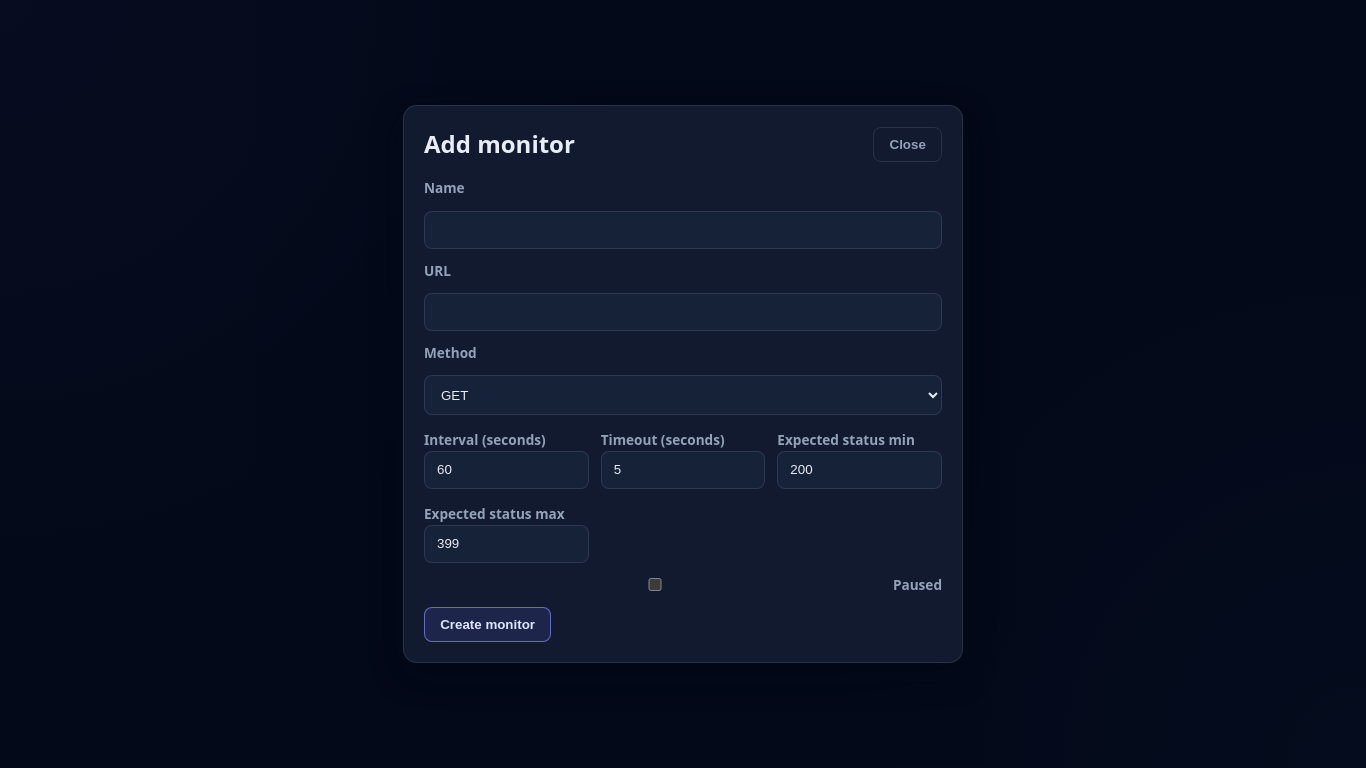
Test: MonitorFormModal › does not submit invalid forms
The width and height of the screenshot is (1366, 768).
Click the button "Create monitor" at (488, 624), box [424,607,551,642]
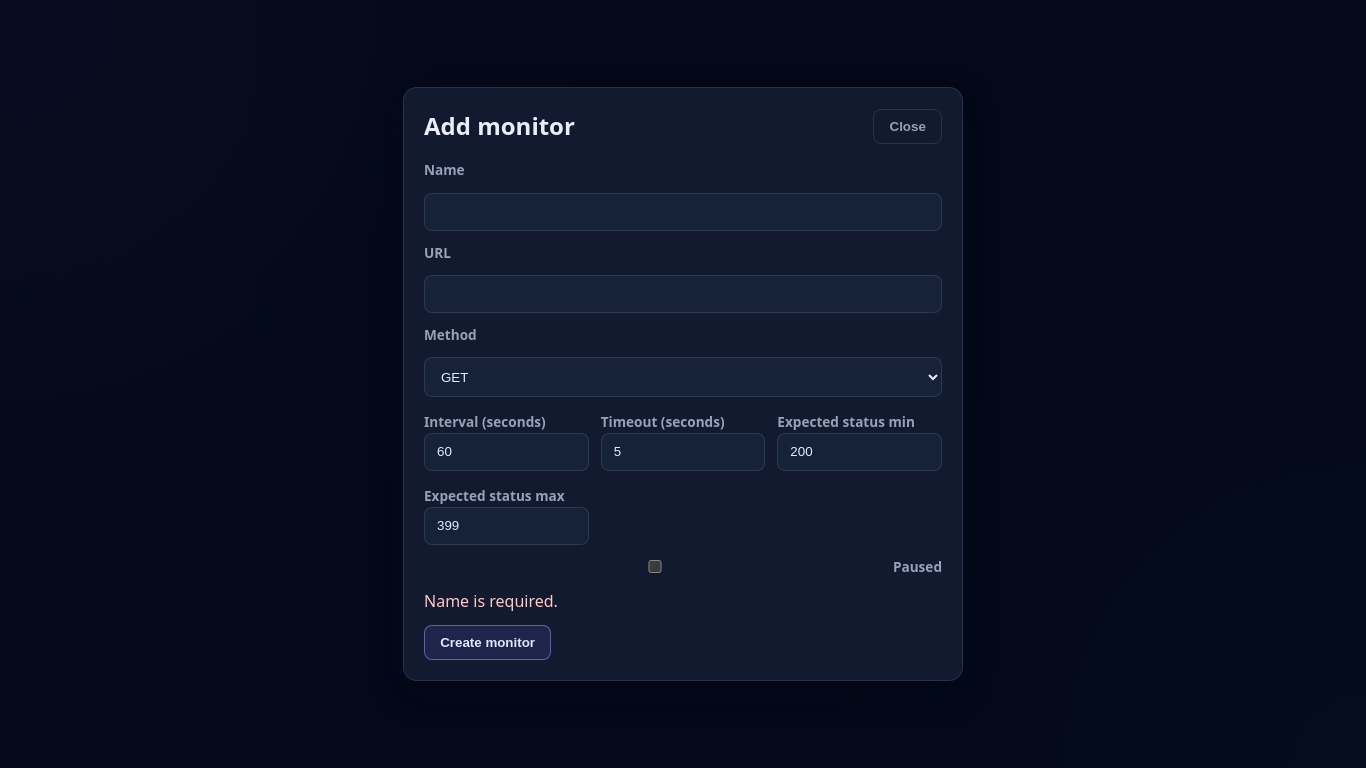
Expected: the message shows "Name is required", [424,590,558,612]
